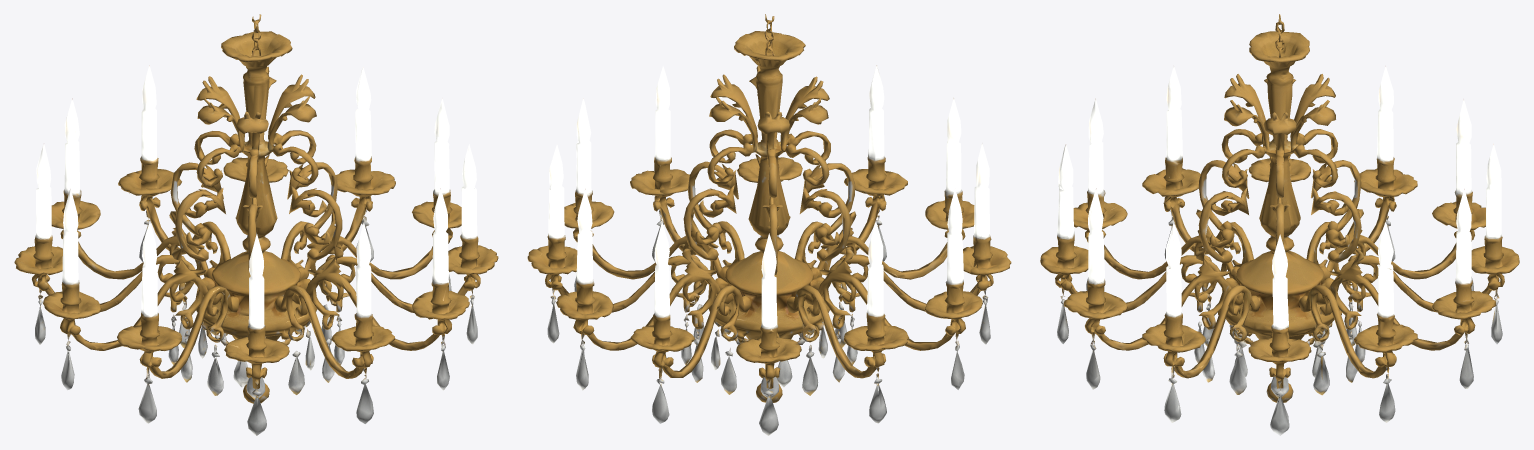
File: chandelier.glb
3 views of the same model, side by side, from view 1: azimuth 30°, elevation 25°; view 2: azimuth 150°, elevation 25°; view 3: azimuth 270°, elevation 25° (orthographic).
Bounding box in the file's own units: 1.91 × 1.7 × 1.91.
1 material, 1 textured.
